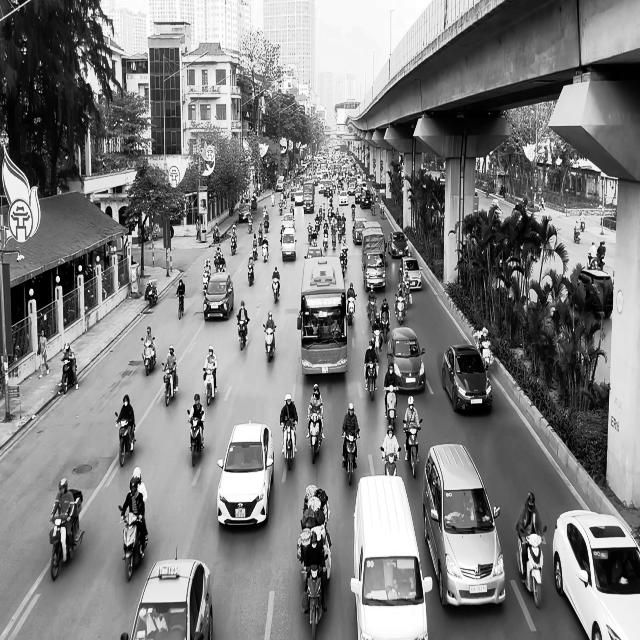bus: (297, 256, 348, 375)
car: (422, 443, 506, 607), (350, 474, 433, 639), (552, 508, 640, 640), (120, 550, 213, 639), (217, 421, 274, 527), (441, 344, 493, 412), (386, 327, 426, 392), (576, 267, 614, 319), (203, 272, 234, 321), (398, 256, 422, 290), (388, 230, 410, 258)
motorbike: (49, 490, 84, 581), (516, 525, 546, 607), (118, 505, 148, 581), (114, 412, 136, 466), (403, 418, 422, 478), (187, 408, 205, 466), (342, 430, 359, 486), (306, 412, 324, 464), (280, 418, 297, 470), (58, 356, 78, 394), (162, 361, 178, 406), (380, 444, 401, 476), (384, 385, 398, 432), (141, 336, 156, 376), (364, 359, 378, 401), (202, 366, 216, 405), (262, 324, 276, 362), (236, 316, 249, 350), (346, 294, 356, 326), (146, 279, 157, 306), (247, 256, 255, 286), (176, 292, 184, 320), (272, 275, 280, 302), (230, 233, 236, 255), (574, 228, 580, 243)
